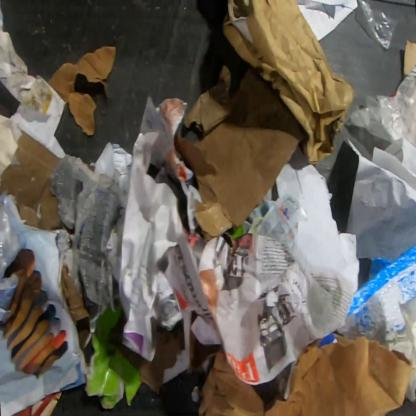cardboard: (174, 66, 308, 240), (335, 242, 416, 340), (0, 130, 64, 231), (83, 302, 141, 410), (109, 319, 185, 396), (183, 65, 232, 138), (59, 264, 94, 351)
soft_plastic: (348, 87, 415, 151), (356, 0, 398, 50), (0, 193, 19, 276), (390, 62, 415, 97)
